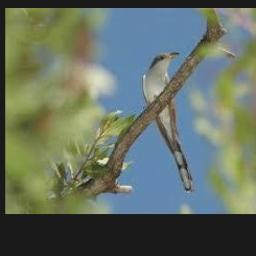Cuckoo: (142, 52, 193, 192)
